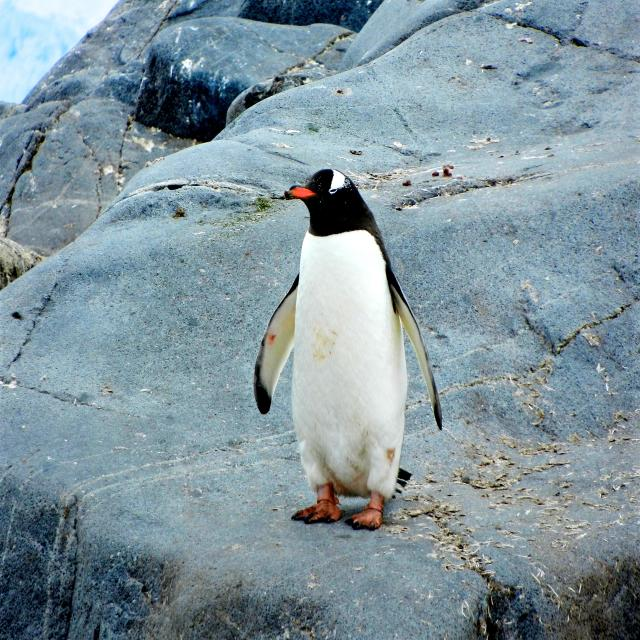Penguins: (260, 167, 434, 532)
